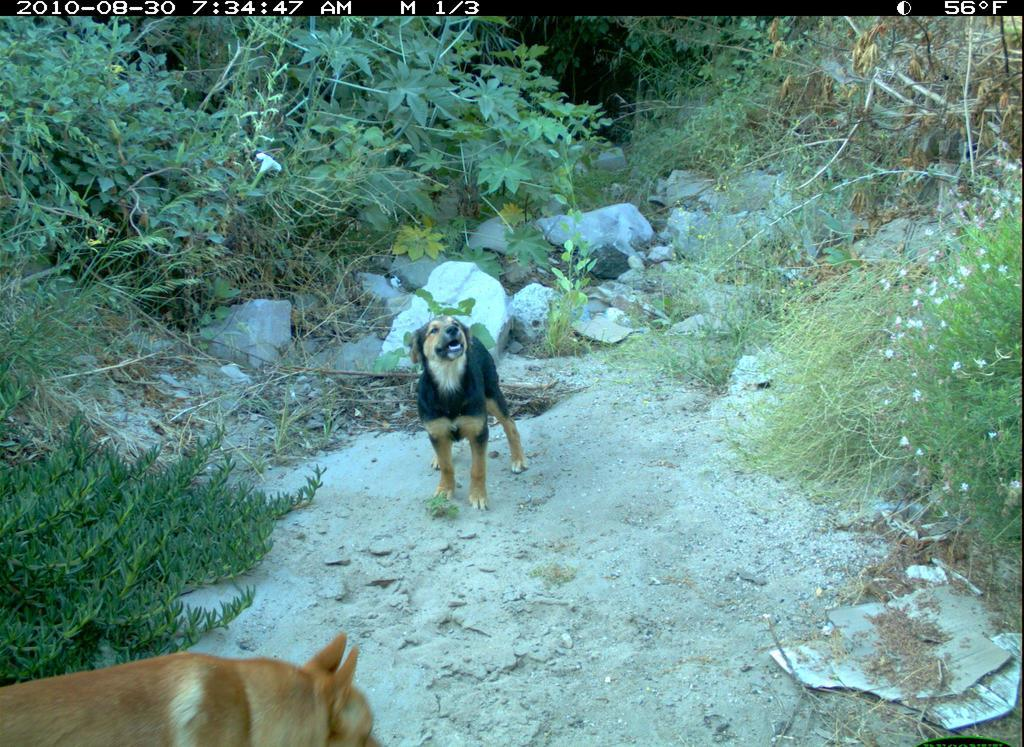dog: (1, 630, 402, 747), (406, 308, 538, 521)
